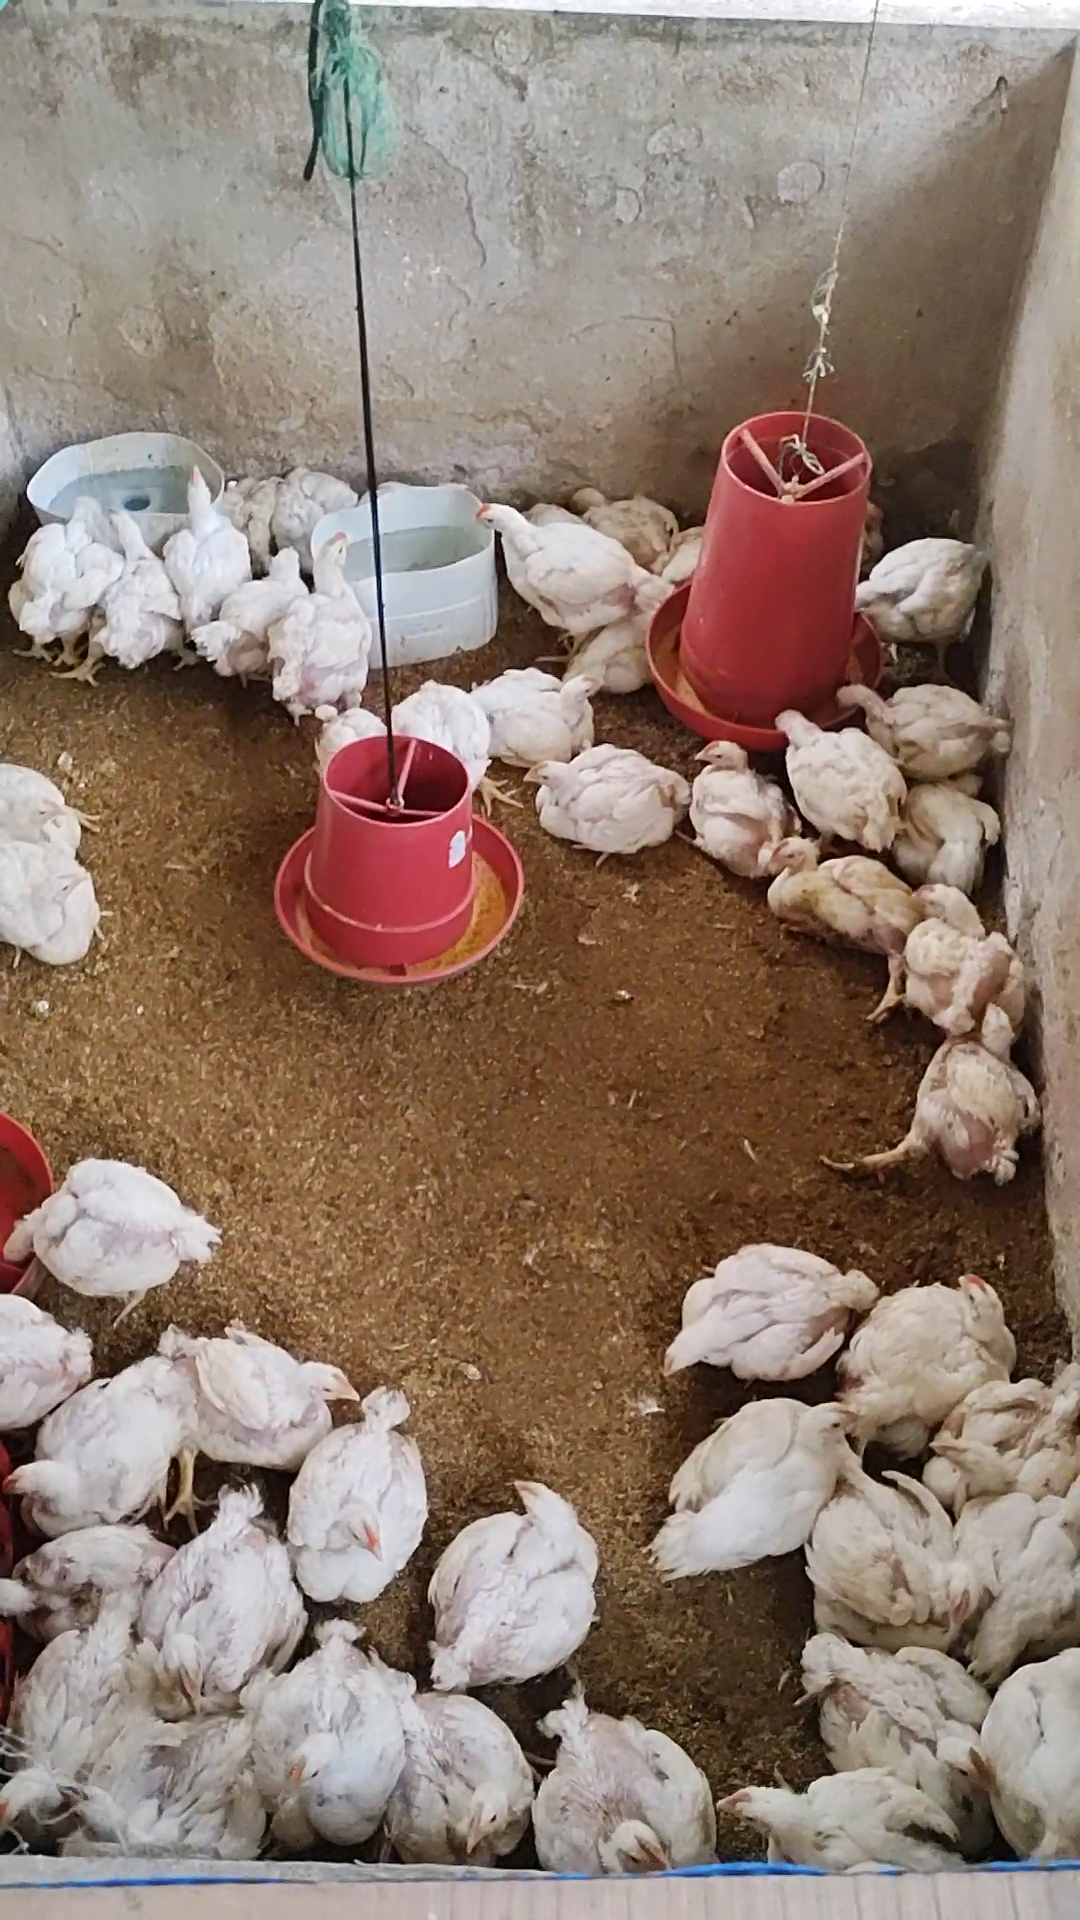Pollos: (638, 1385, 876, 1597), (402, 1464, 607, 1701), (510, 1677, 731, 1887), (785, 1440, 977, 1668), (825, 1022, 1064, 1204), (785, 1625, 980, 1845), (153, 1299, 357, 1509), (0, 1596, 182, 1829), (638, 1215, 876, 1389), (692, 1741, 965, 1884), (18, 1137, 223, 1324), (819, 1261, 1018, 1451), (131, 1495, 301, 1713), (389, 1647, 546, 1865), (245, 1627, 394, 1847), (7, 1338, 178, 1528), (290, 1370, 429, 1604), (955, 1451, 1077, 1693), (91, 1705, 284, 1859), (756, 827, 934, 986), (513, 741, 692, 886), (65, 487, 182, 696), (766, 698, 907, 870), (891, 878, 1038, 1044), (477, 489, 644, 636), (934, 1338, 1080, 1503), (258, 529, 378, 729), (839, 655, 1006, 785), (7, 489, 109, 691), (384, 669, 516, 807), (173, 451, 251, 684), (858, 531, 1004, 651), (471, 655, 621, 754), (680, 741, 781, 886), (204, 542, 316, 663)
